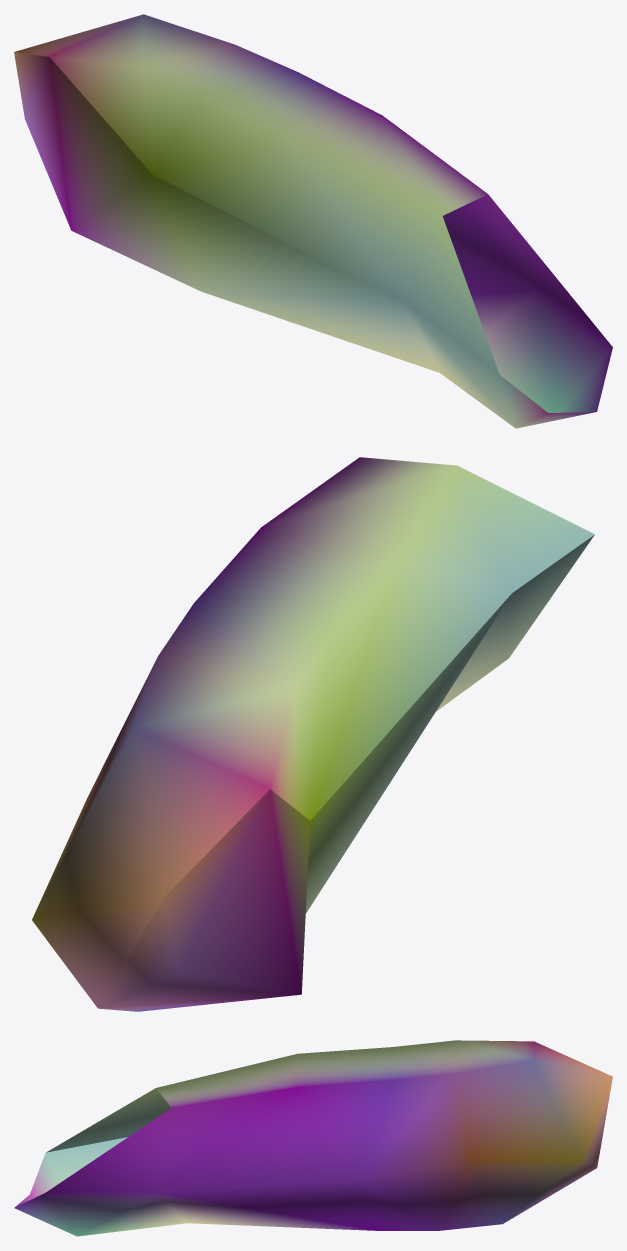
The picture shows the model from 3 angles, top to bottom: view 1: azimuth 30°, elevation 25°; view 2: azimuth 150°, elevation 25°; view 3: azimuth 270°, elevation 25°; orthographic projection. The views are drawn at different scales.
Visible parts, largest first — view 1: part; view 2: part; view 3: part.
Boxes of the visible parts, x1,y1,x2,y2 form: part: [14, 14, 612, 428]; part: [32, 457, 594, 1011]; part: [14, 1040, 612, 1236].
Bounding box in the file's own units: 12 × 11 × 38.
